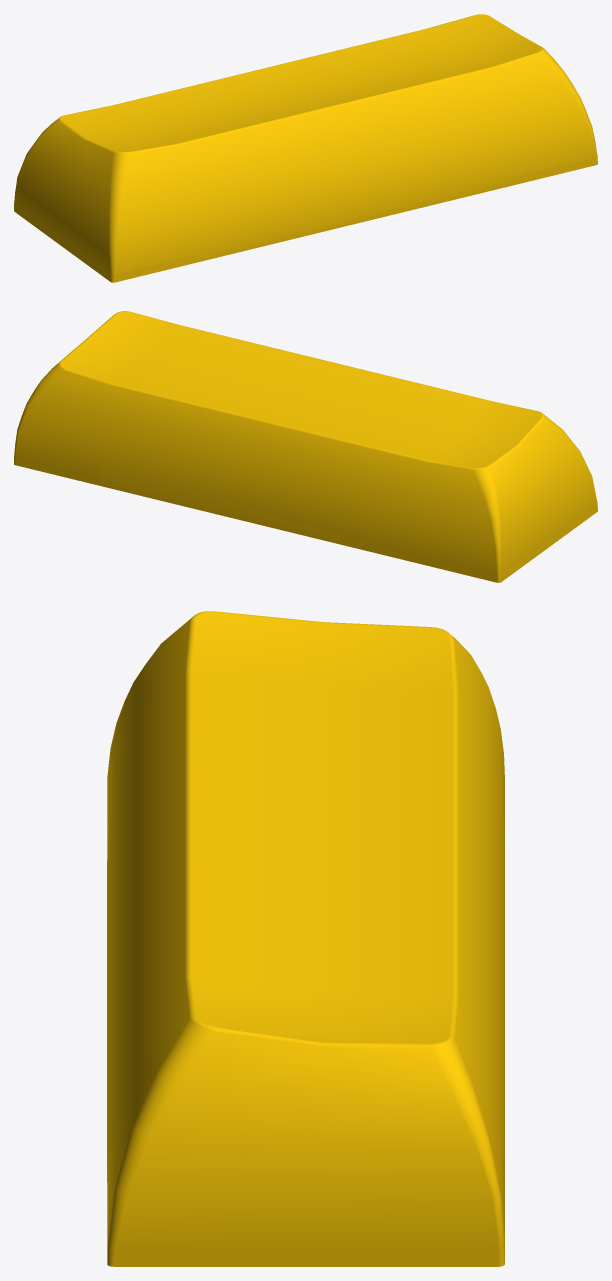
The model's file is KAT_2_75u_r4.glb.
3 renders of one model, top to bottom at view 1: azimuth 30°, elevation 25°; view 2: azimuth 150°, elevation 25°; view 3: azimuth 270°, elevation 25°, orthographic. The views are drawn at different scales.
Visible parts, largest first — view 1: Object.112; view 2: Object.112; view 3: Object.112.
Part boxes in pixels (x1=…): Object.112: x1=14, y1=14, x2=597, y2=282; Object.112: x1=14, y1=311, x2=597, y2=582; Object.112: x1=107, y1=611, x2=504, y2=1266.
Size of the model in its own units: 51.45 by 10.68 by 18.21.
